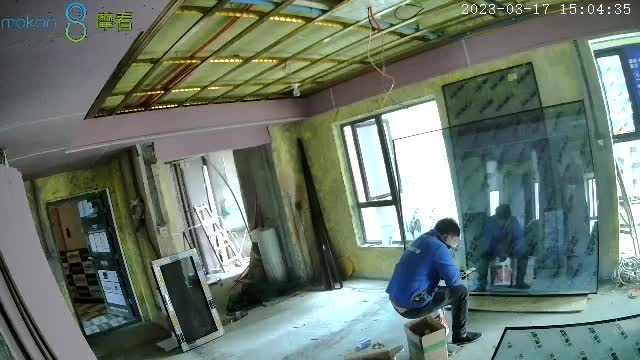people: (385, 216, 484, 345)
window: (340, 99, 462, 244)
